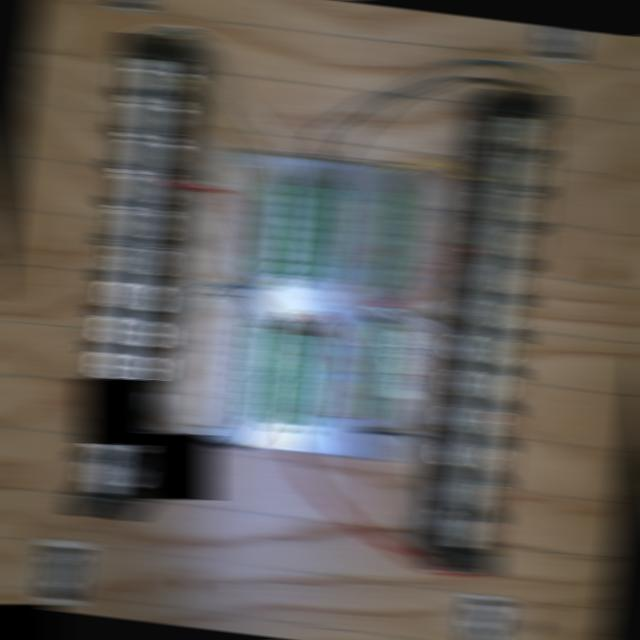Flathead_Block: (425, 87, 559, 577)
Phillips_Block: (65, 32, 195, 522)
Terminal_1: (353, 319, 398, 419), (369, 188, 412, 291)
Terminal_2: (291, 332, 333, 428), (250, 180, 291, 277), (310, 185, 351, 282), (263, 330, 304, 426), (280, 183, 321, 279)
